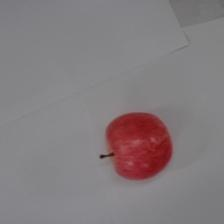red: (103, 110, 173, 181)
